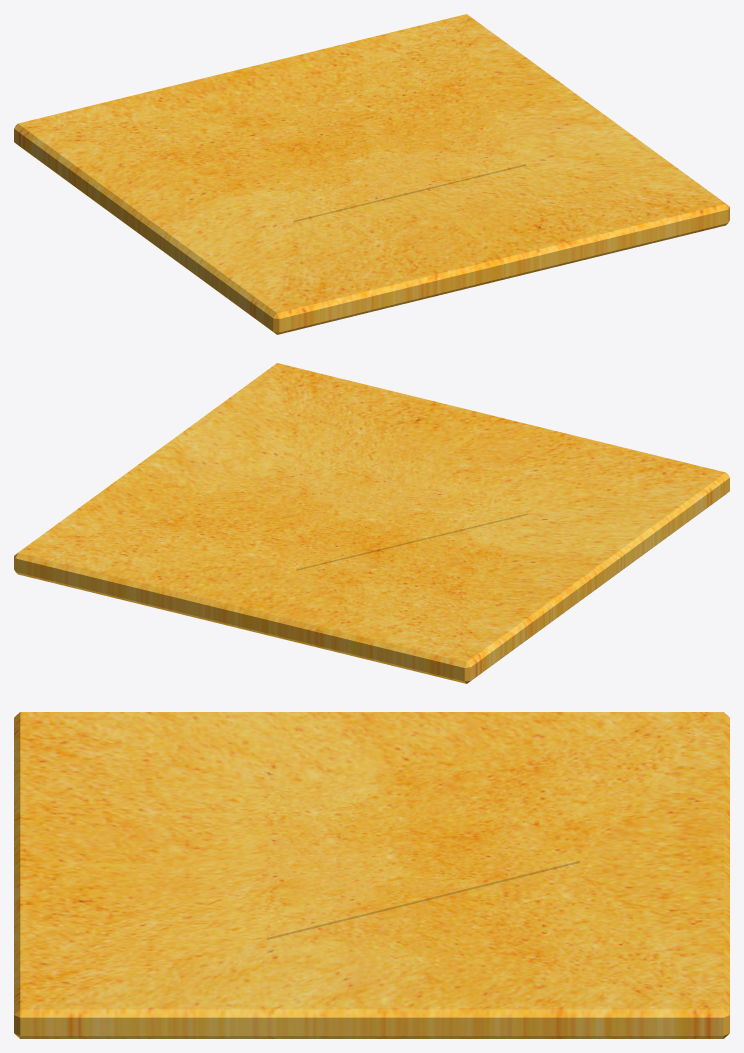
The model's file is keo_tamgiac.fbx.
The picture shows the model from 3 angles, top to bottom: view 1: azimuth 30°, elevation 25°; view 2: azimuth 150°, elevation 25°; view 3: azimuth 270°, elevation 25°; orthographic projection. The views are drawn at different scales.
Visible parts, largest first — view 1: polySurface103, polySurface106, polySurface105, polySurface101; view 2: polySurface103, polySurface105, polySurface106, polySurface101; view 3: polySurface103, polySurface106, polySurface105, polySurface101.
Part boxes in pixels (x1=…): polySurface103: x1=276, y1=14, x2=729, y2=334; polySurface106: x1=14, y1=109, x2=294, y2=334; polySurface105: x1=15, y1=14, x2=525, y2=163; polySurface101: x1=293, y1=108, x2=525, y2=222; polySurface103: x1=14, y1=363, x2=728, y2=570; polySurface105: x1=15, y1=458, x2=470, y2=683; polySurface106: x1=296, y1=472, x2=729, y2=681; polySurface101: x1=295, y1=457, x2=527, y2=570; polySurface103: x1=14, y1=712, x2=726, y2=1038; polySurface106: x1=21, y1=712, x2=723, y2=862; polySurface105: x1=268, y1=712, x2=729, y2=1038; polySurface101: x1=267, y1=784, x2=579, y2=939.
Bounding box in the file's own units: 140 × 6.42 × 140.
